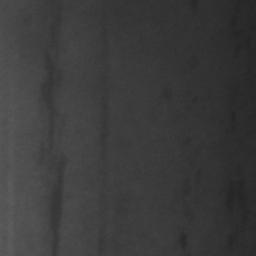Inclusion: (49, 152, 69, 256), (41, 56, 55, 136)
